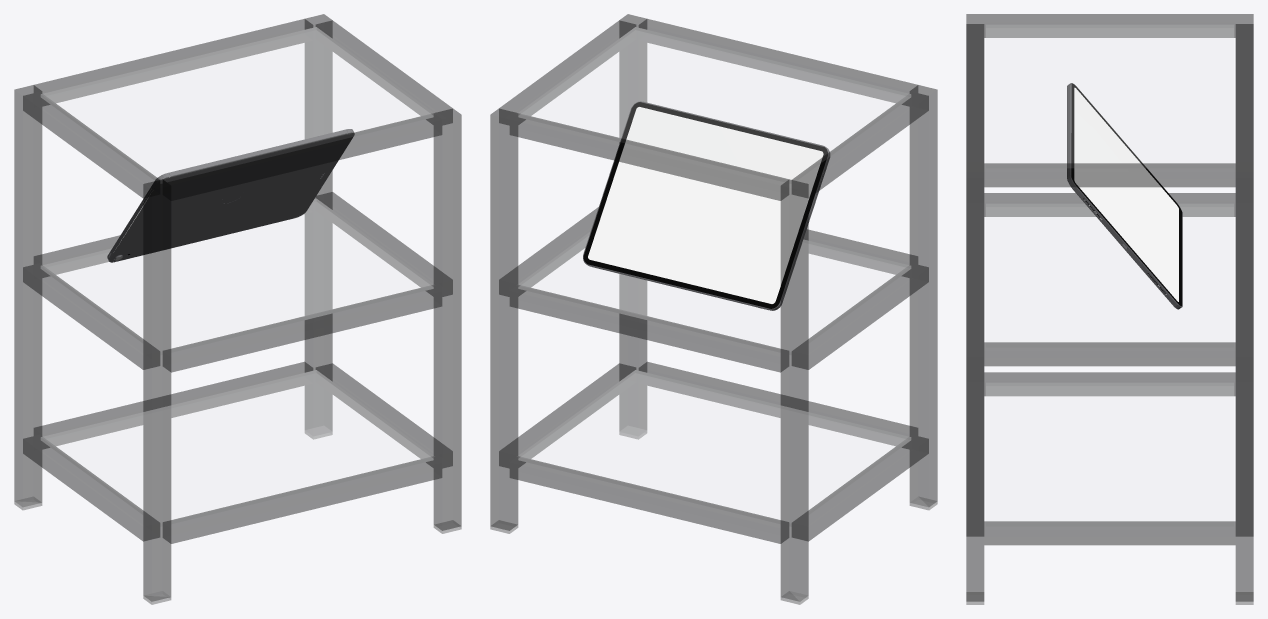
The model's file is table-transformed.glb.
3 views of the same model, side by side, from view 1: azimuth 30°, elevation 25°; view 2: azimuth 150°, elevation 25°; view 3: azimuth 270°, elevation 25° (orthographic). The views are drawn at different scales.
Visible parts, largest first — view 1: table, iPad; view 2: table, iPad; view 3: table, iPad.
Boxes of the visible parts, x1,y1,x2,y2 form: table: (14,14,461,604); iPad: (107,129,354,262); table: (490,14,937,604); iPad: (583,101,830,310); table: (966,14,1253,604); iPad: (1067,83,1182,309).
Bounding box in the file's own units: 0.52 × 0.665 × 0.4.
Materials: 7 (7 with a texture image).
